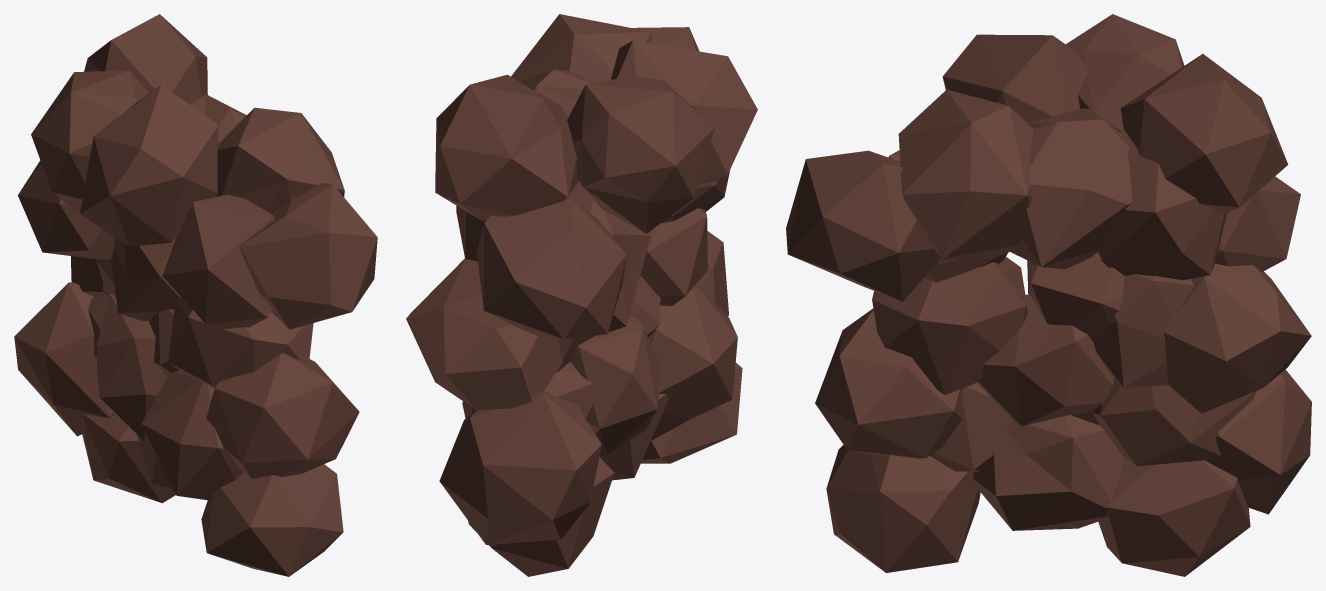
Rendered from crashedBus1Rubble.fbx.
3 renders of one model, left to right at view 1: azimuth 30°, elevation 25°; view 2: azimuth 150°, elevation 25°; view 3: azimuth 270°, elevation 25°, orthographic. The views are drawn at different scales.
Visible parts, largest first — view 1: Icosphere; view 2: Icosphere; view 3: Icosphere.
Boxes of the visible parts, box(x1,y1,x2,y2) form: Icosphere: box(14, 14, 377, 576); Icosphere: box(406, 14, 757, 576); Icosphere: box(786, 14, 1311, 576).
Size of the model in its own units: 337 by 675 by 617.
